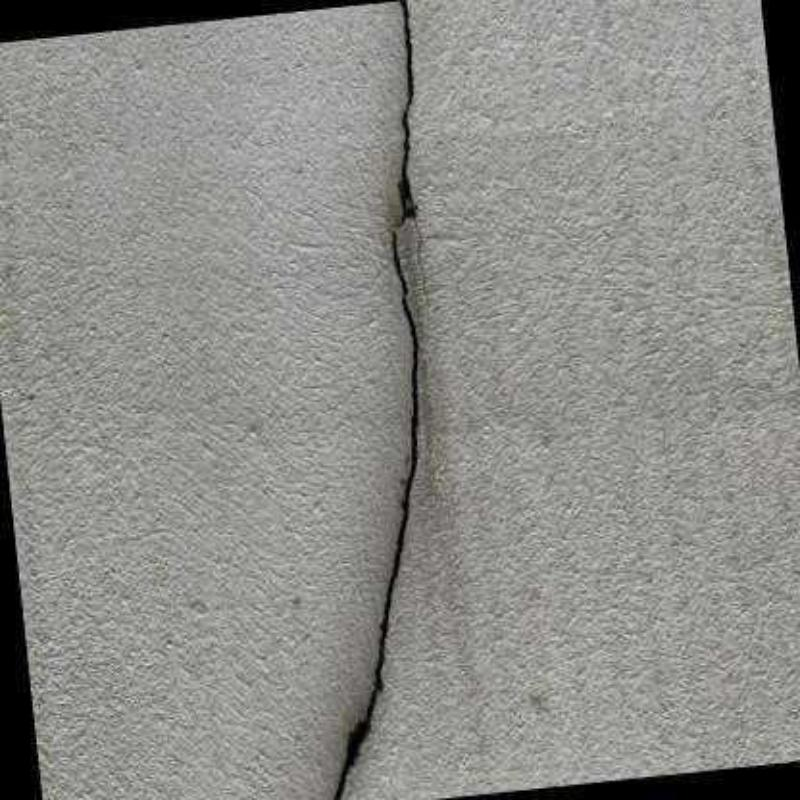pothole: (328, 0, 417, 798), (413, 217, 425, 287)
